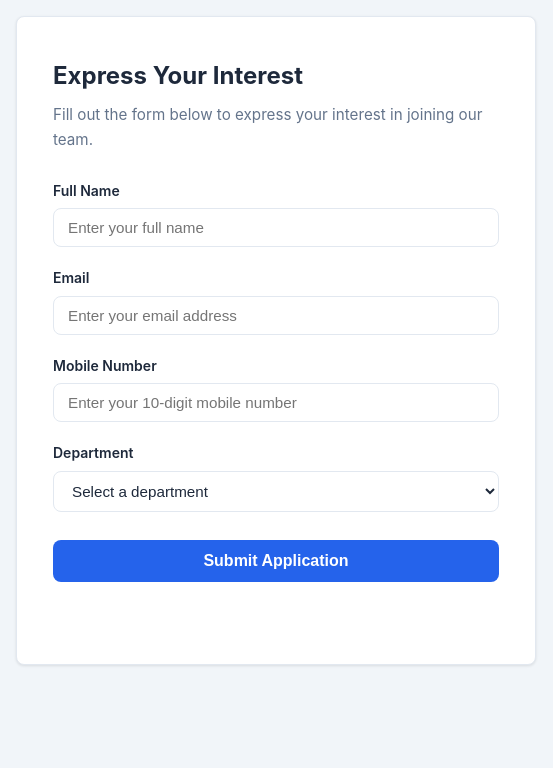
Test case: InterestForm › shows validation errors when submitting empty form
Step 1. Click the button "Submit Application" → (276, 561), box x1=53 y1=540 x2=499 y2=582
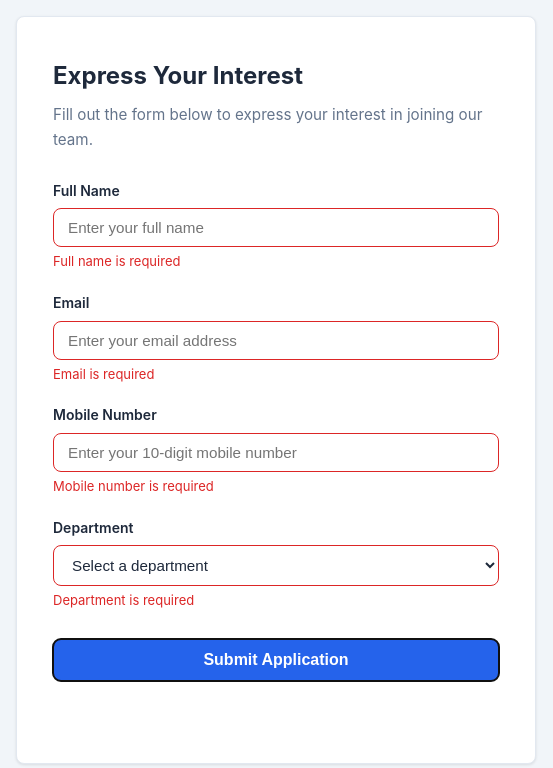
Now the text "Full name is required" is shown, box x1=53 y1=253 x2=180 y2=269
Now the text "Email is required" is shown, box x1=53 y1=366 x2=154 y2=382
Now the text "Mobile number is required" is shown, box x1=53 y1=478 x2=214 y2=494
